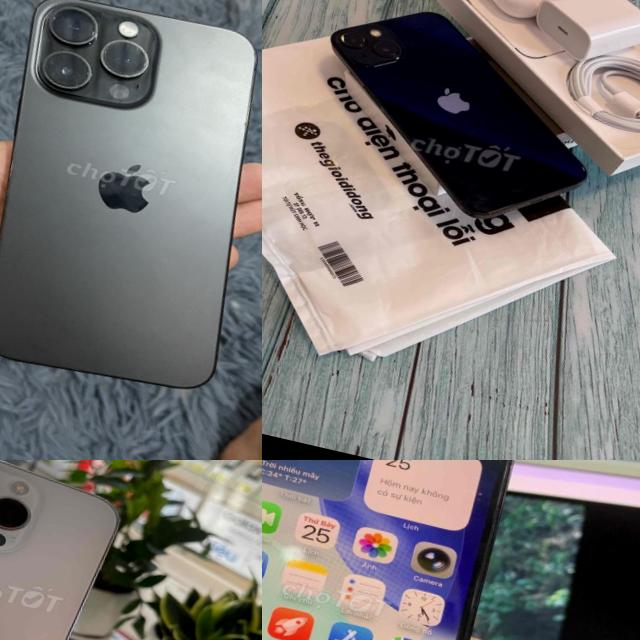gen_12_13: (293, 0, 615, 245), (262, 460, 535, 640)
gen_14: (0, 460, 113, 640)
gen_15: (0, 0, 262, 419)
